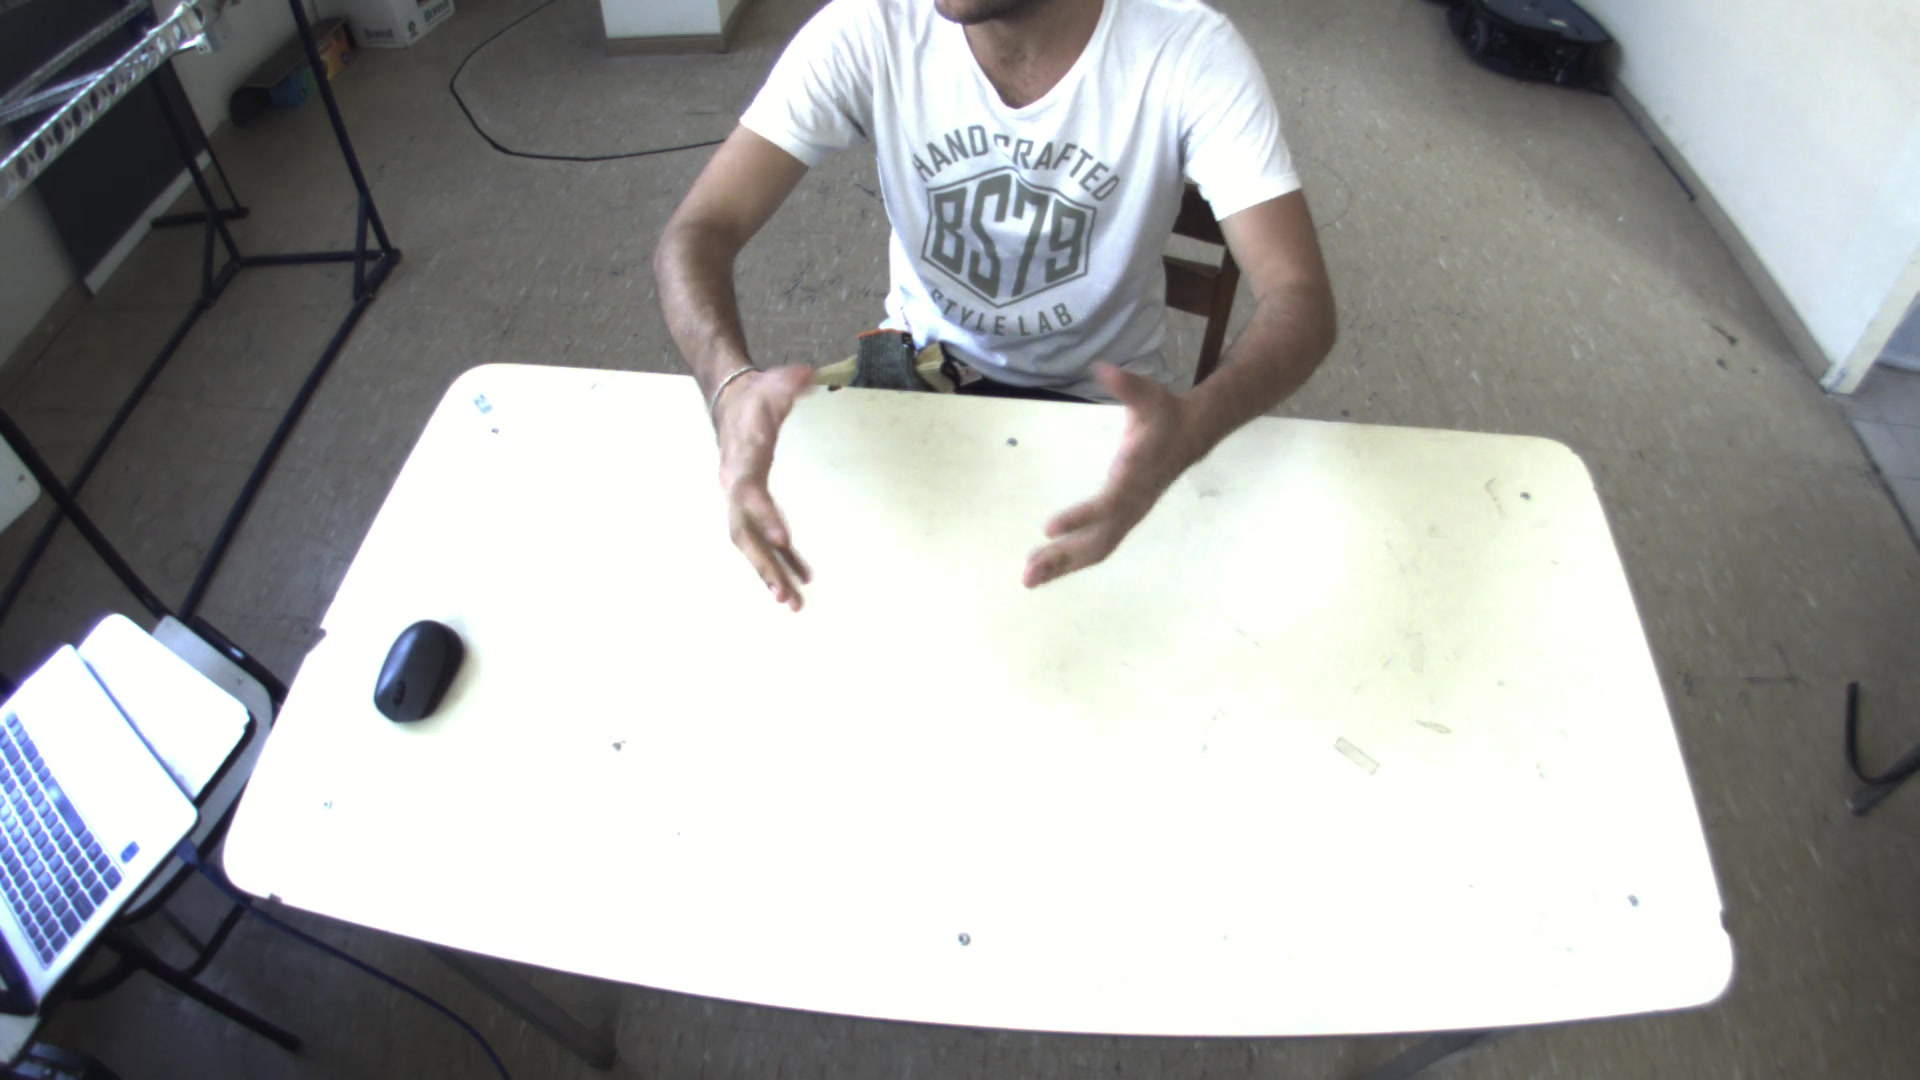hand: (1015, 348, 1215, 601), (712, 359, 841, 618)
